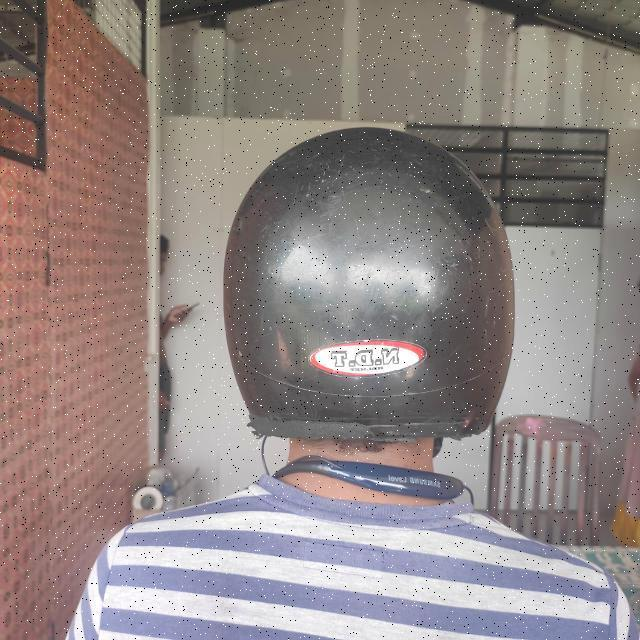helmet: (222, 128, 513, 478)
